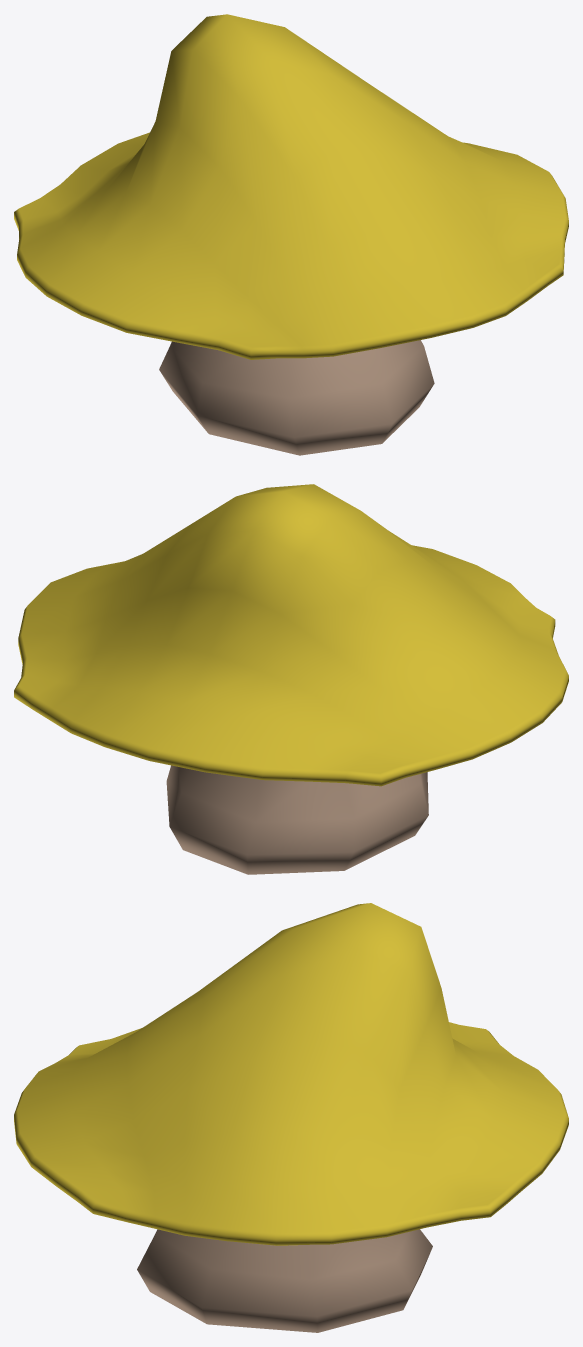
File: Mesh_Mushroom_Fat.fbx
3 views of the same model, one above another, from view 1: azimuth 30°, elevation 25°; view 2: azimuth 150°, elevation 25°; view 3: azimuth 270°, elevation 25° (orthographic).
Visible parts, largest first — view 1: mushroom_cap; view 2: mushroom_cap; view 3: mushroom_cap.
Boxes of the visible parts, left/top/right/bottom form: mushroom_cap: left=14, top=14, right=568, bottom=455; mushroom_cap: left=14, top=484, right=568, bottom=874; mushroom_cap: left=14, top=903, right=568, bottom=1332.
Size of the model in its own units: 123 by 85.32 by 117.
